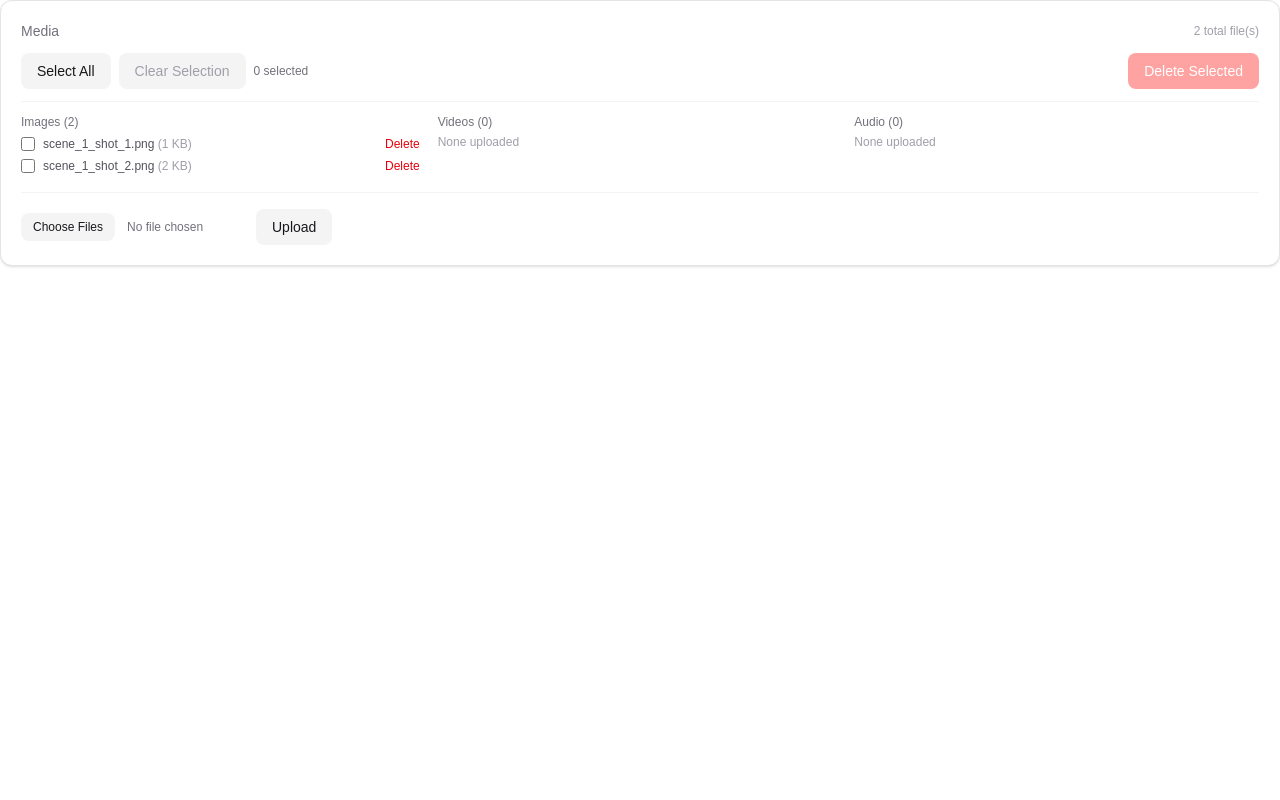
Test: MediaPanel › deletes a single file after confirmation and refreshes the manifest
expect the text "scene_1_shot_1.png" is shown: met, box 43,137 -> 154,151
Click the button with aria-label "Delete scene_1_shot_1.png": (402, 144) 379,134 -> 426,154
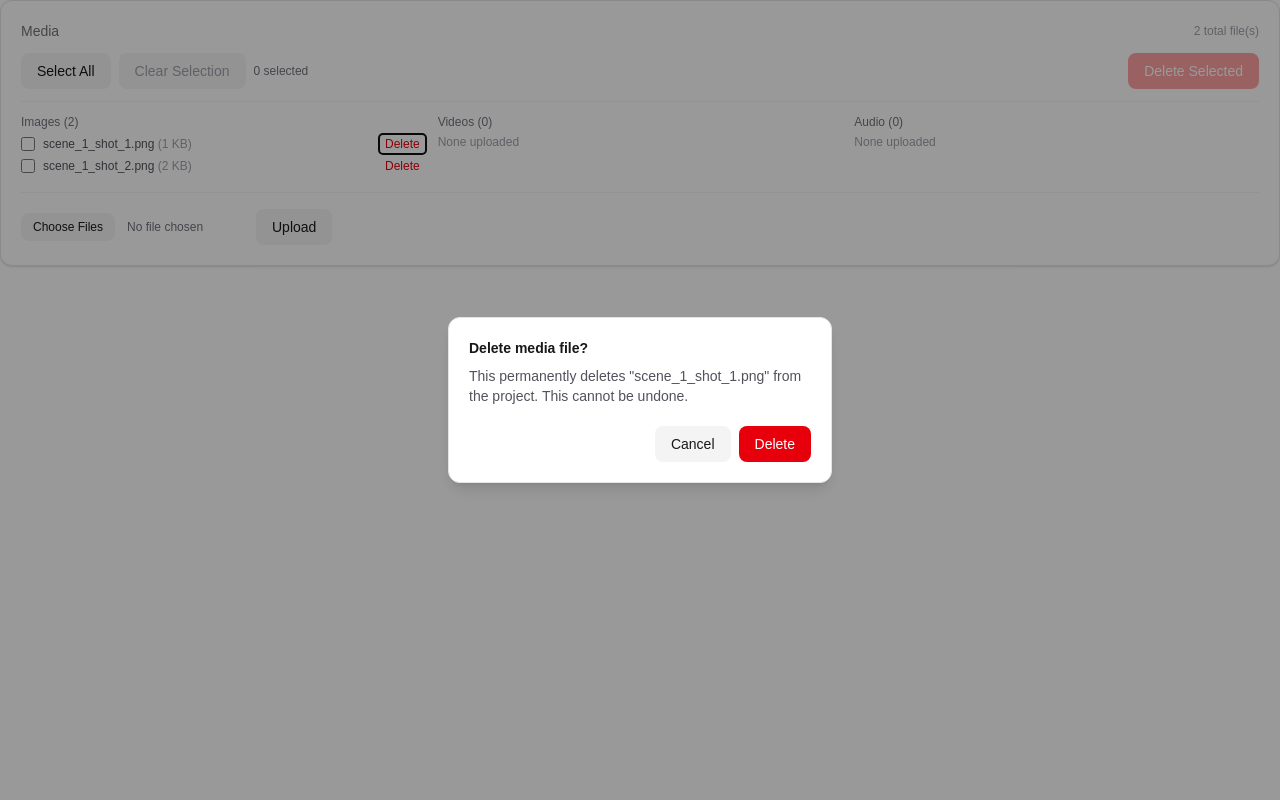
expect the dialog is shown: met, box 448,317 -> 832,483
Click the button "Delete": (775, 444) 738,426 -> 811,462
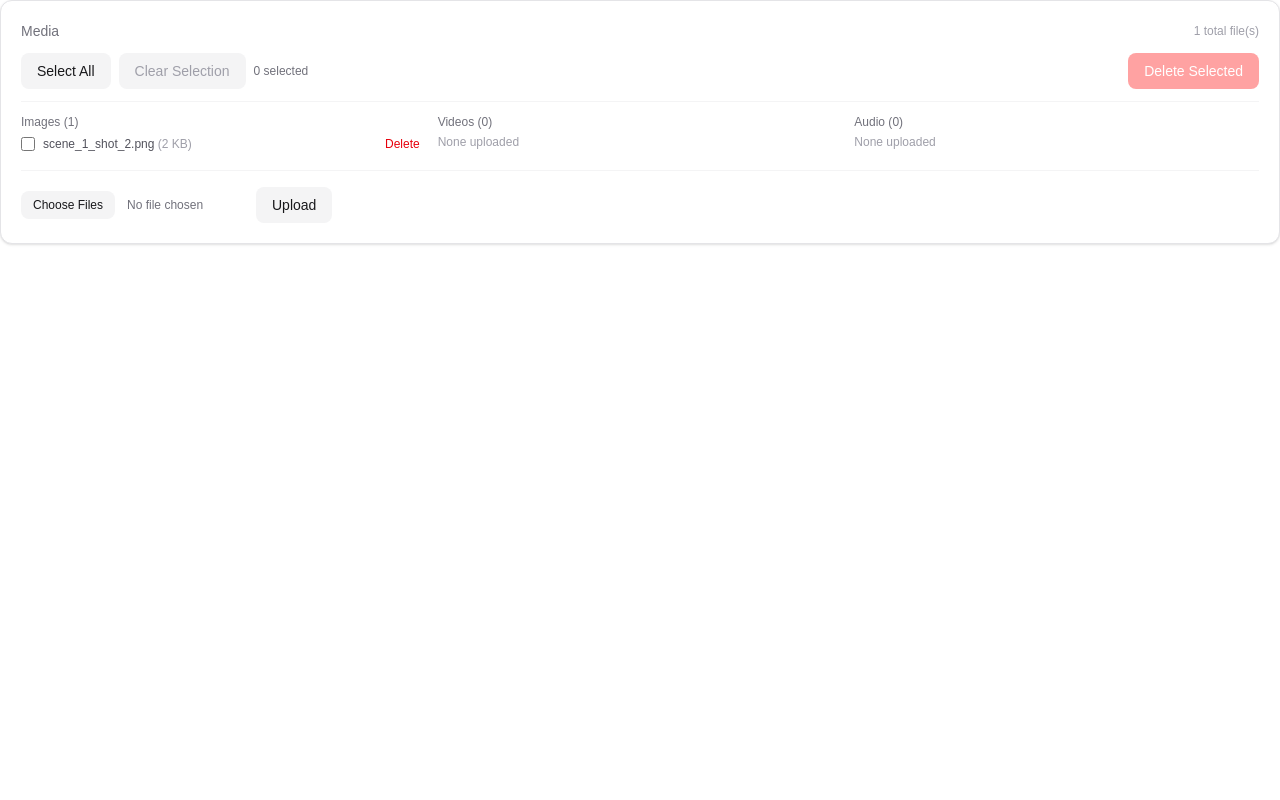
expect the text "scene_1_shot_1.png" is gone: met
